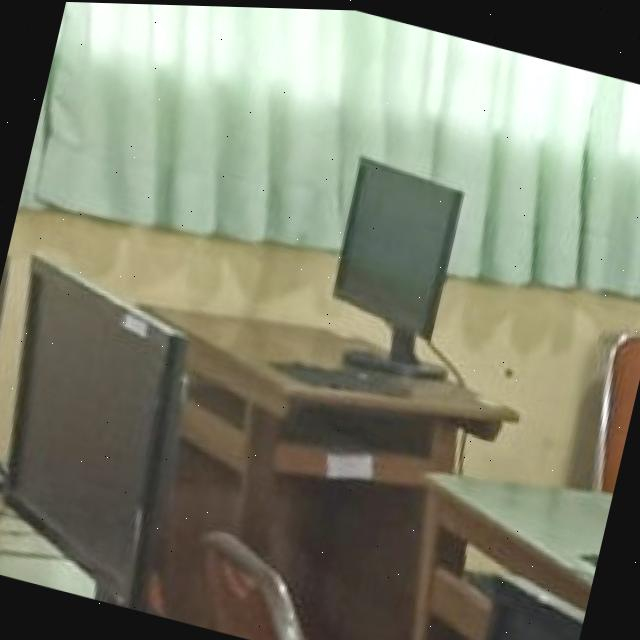offscreen: (6, 256, 187, 607), (335, 155, 463, 335)
